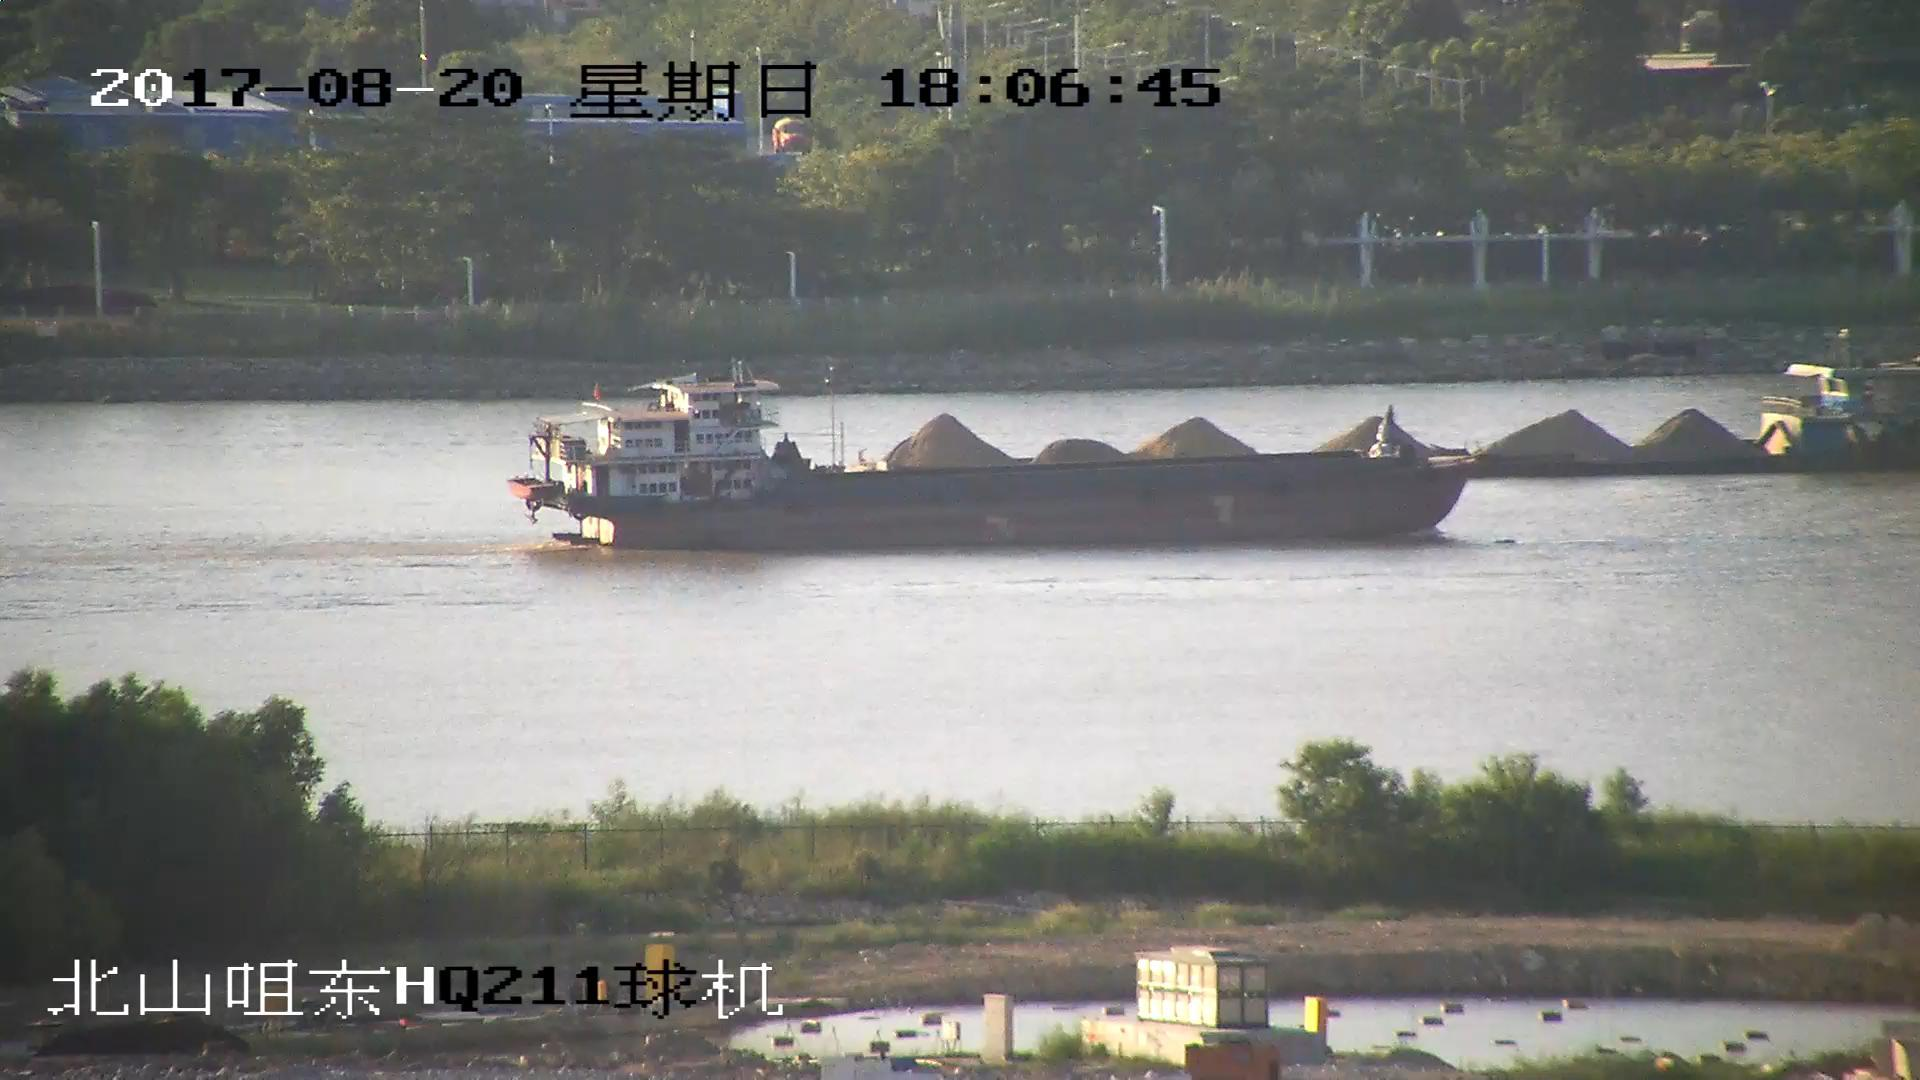Ship: (505, 375, 1481, 553), (818, 359, 1920, 483)
